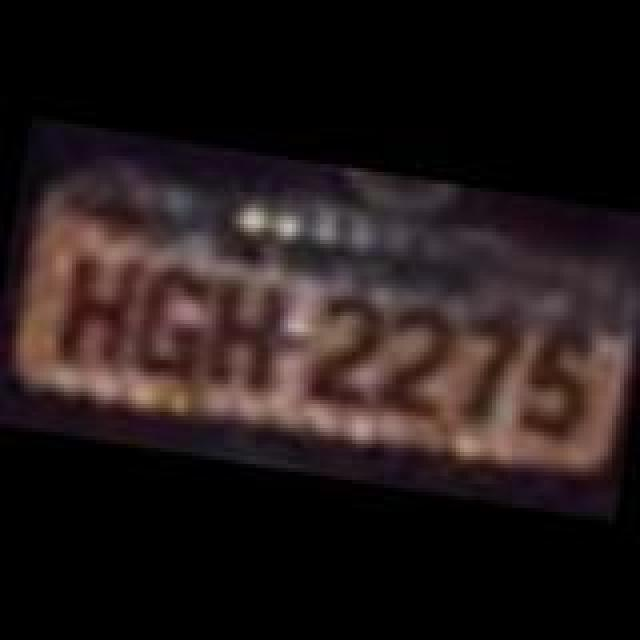2: (304, 288, 392, 416), (374, 304, 458, 424)
5: (518, 314, 602, 446)
7: (448, 308, 528, 428)
G: (128, 260, 216, 388)
H: (200, 272, 288, 400), (54, 244, 138, 372)
